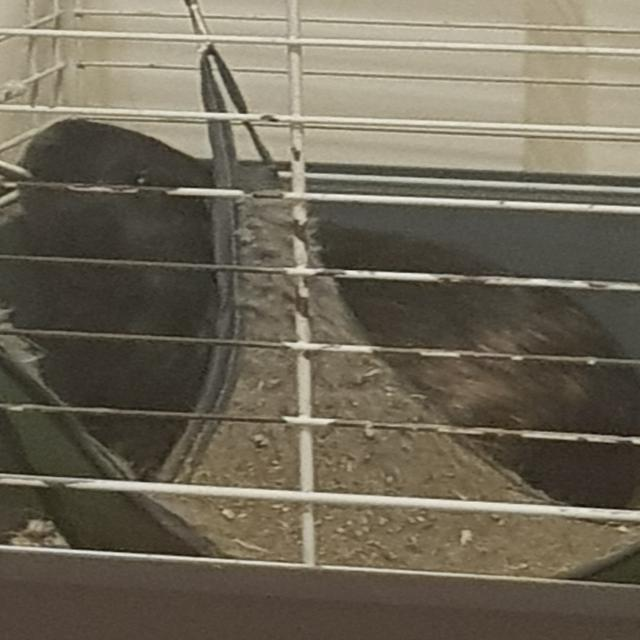guinea pig: (13, 119, 640, 503)
